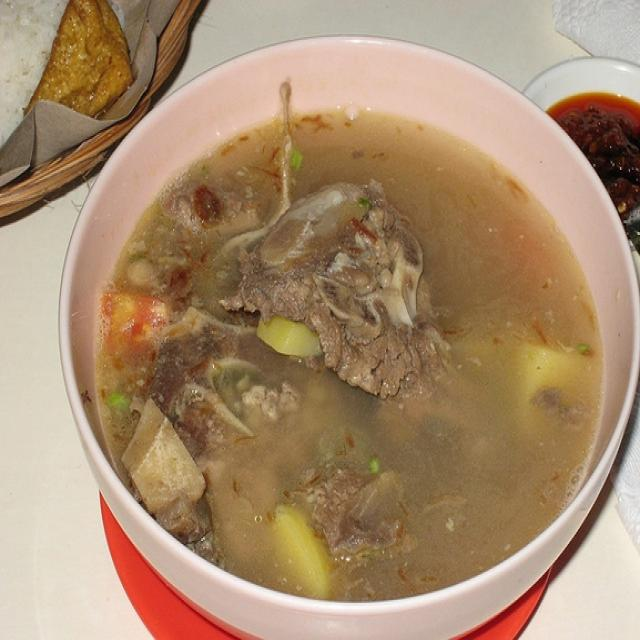汤锅炖物: (80, 50, 619, 615)
